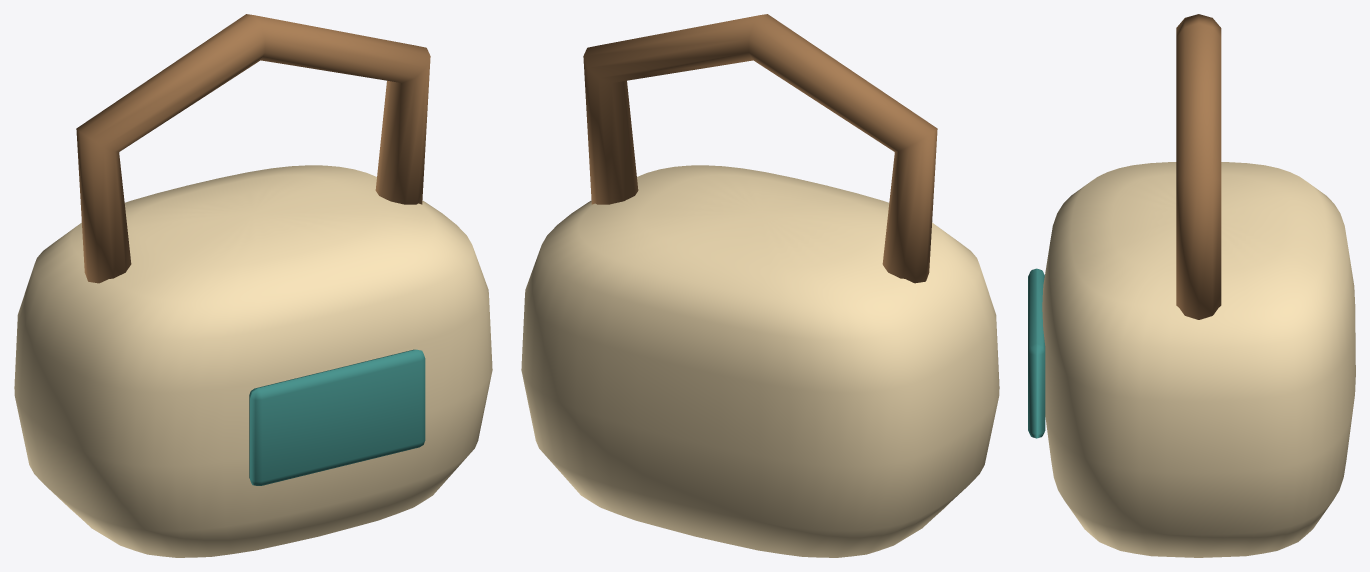
The model's file is goods_parcel.glb.
3 views of the same model, side by side, from view 1: azimuth 30°, elevation 25°; view 2: azimuth 150°, elevation 25°; view 3: azimuth 270°, elevation 25° (orthographic). The views are drawn at different scales.
Visible parts, largest first — view 1: goods_parcel_crafted_mesh; view 2: goods_parcel_crafted_mesh; view 3: goods_parcel_crafted_mesh.
Boxes of the visible parts, x1=… form: goods_parcel_crafted_mesh: x1=14, y1=14, x2=492, y2=557; goods_parcel_crafted_mesh: x1=521, y1=14, x2=999, y2=557; goods_parcel_crafted_mesh: x1=1028, y1=14, x2=1355, y2=557.
Bounding box in the file's own units: 0.6661 × 0.7625 × 0.4715.
